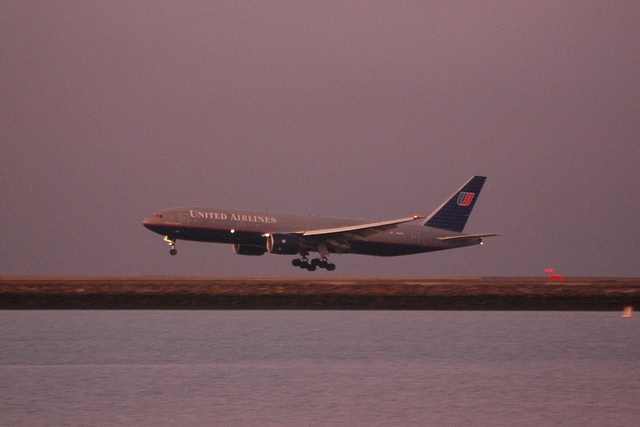airplane: (138, 178, 640, 427)
